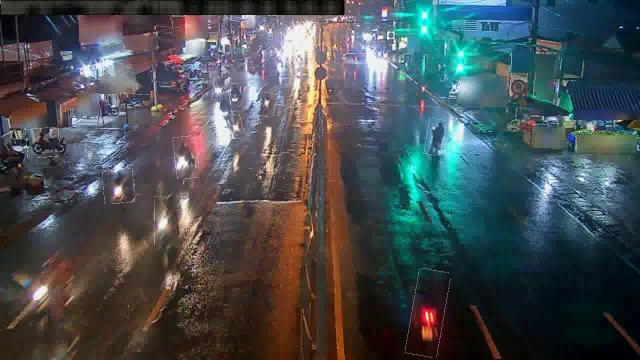Bike: (408, 269, 448, 357), (154, 197, 180, 246), (103, 169, 135, 204), (174, 136, 198, 180), (26, 128, 59, 158), (426, 118, 444, 156), (218, 93, 234, 127), (228, 111, 244, 139), (259, 93, 277, 117), (120, 94, 150, 106), (212, 76, 224, 100), (230, 84, 242, 106)
